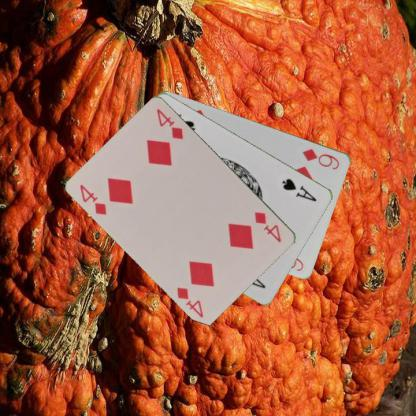4d: (252, 208, 283, 244), (76, 182, 108, 216)
6d: (300, 146, 341, 170)
As: (280, 176, 318, 202)
